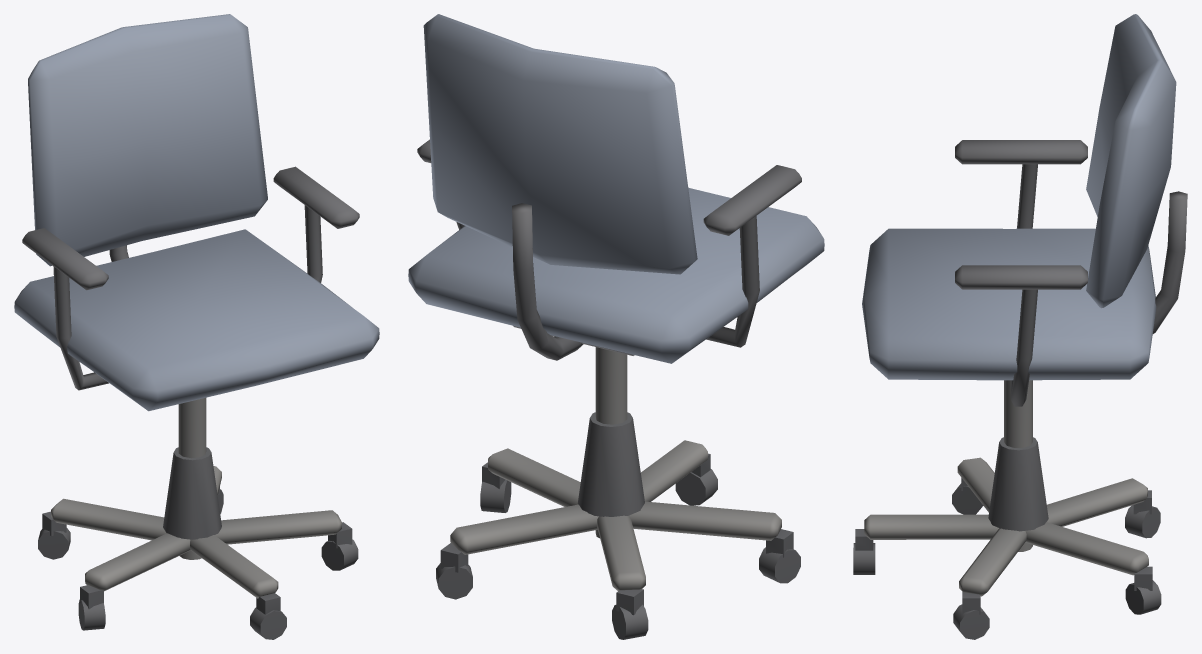
Rendered from chair.glb.
The picture shows the model from 3 angles, left to right: view 1: azimuth 30°, elevation 25°; view 2: azimuth 150°, elevation 25°; view 3: azimuth 270°, elevation 25°; orthographic projection. The views are drawn at different scales.
Parts seen in each view (by area): view 1: furn_chair; view 2: furn_chair; view 3: furn_chair.
Part boxes in pixels (x1=…): furn_chair: x1=14, y1=14, x2=379, y2=639; furn_chair: x1=408, y1=14, x2=824, y2=639; furn_chair: x1=853, y1=14, x2=1187, y2=639.
Size of the model in its own units: 0.545 by 0.9377 by 0.5528.
